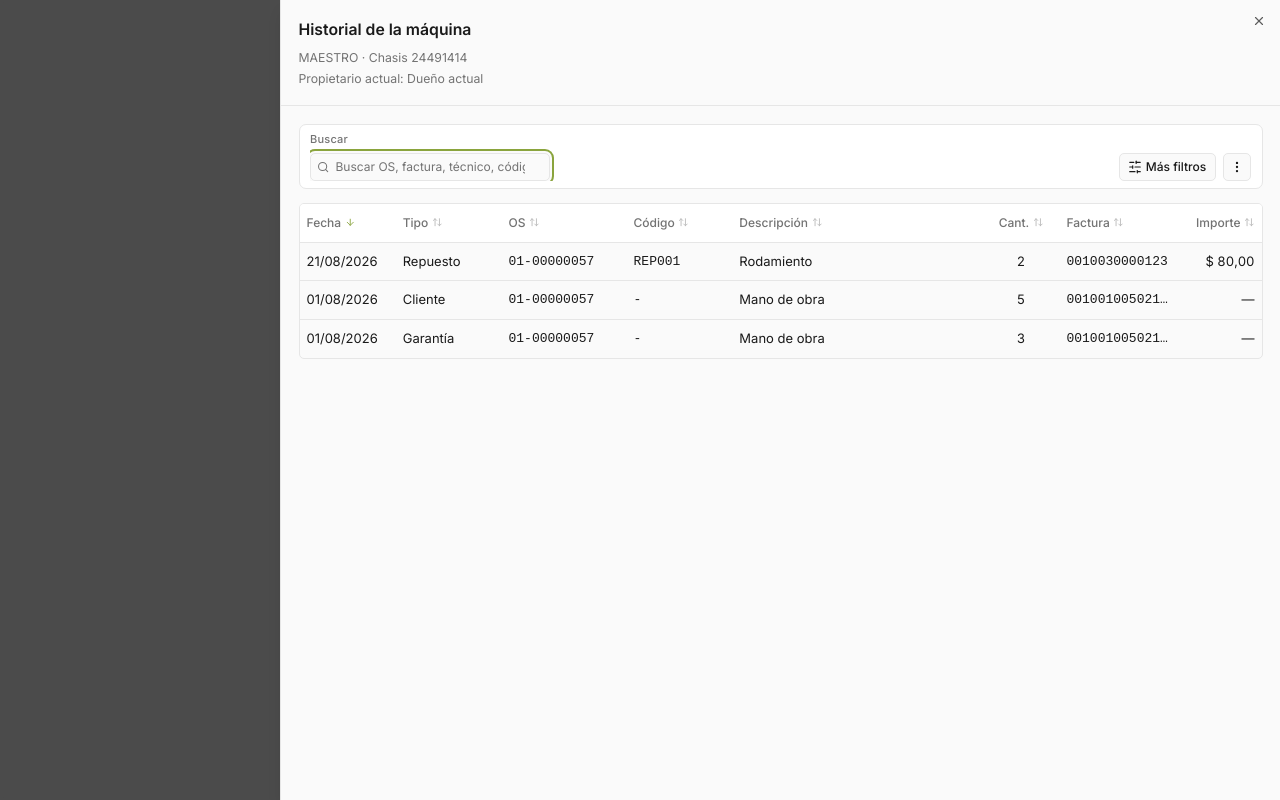
Scenario: complete machine history › searches all service and part fields in the single list
Replace the text in the search field named "Buscar en historial" with "FAB002" at (329, 138), box [310, 132, 1251, 180]
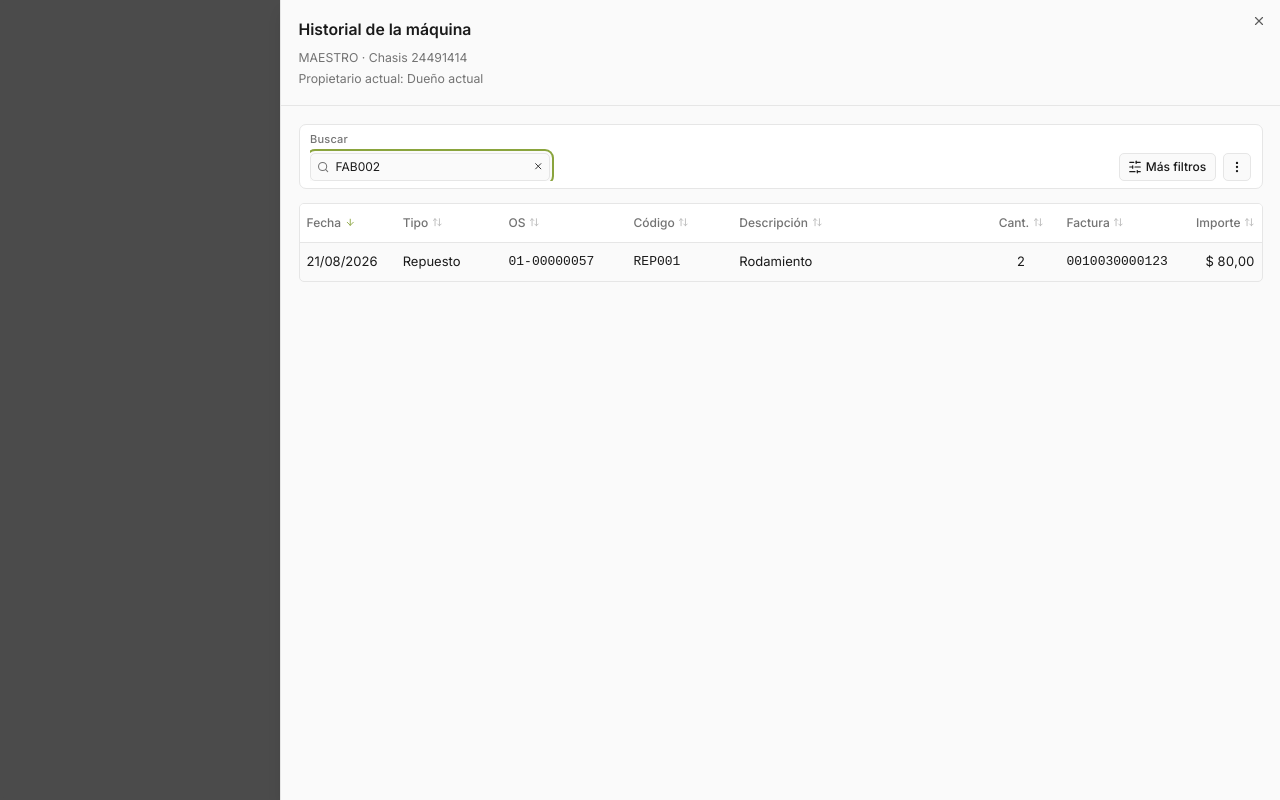
Check: the button "Rodamiento" is shown, box [739, 253, 812, 270]
Check: the number of rows is 2, box [300, 204, 1262, 242]; [300, 242, 1262, 280]
Check: the button "Mano de obra" is gone
